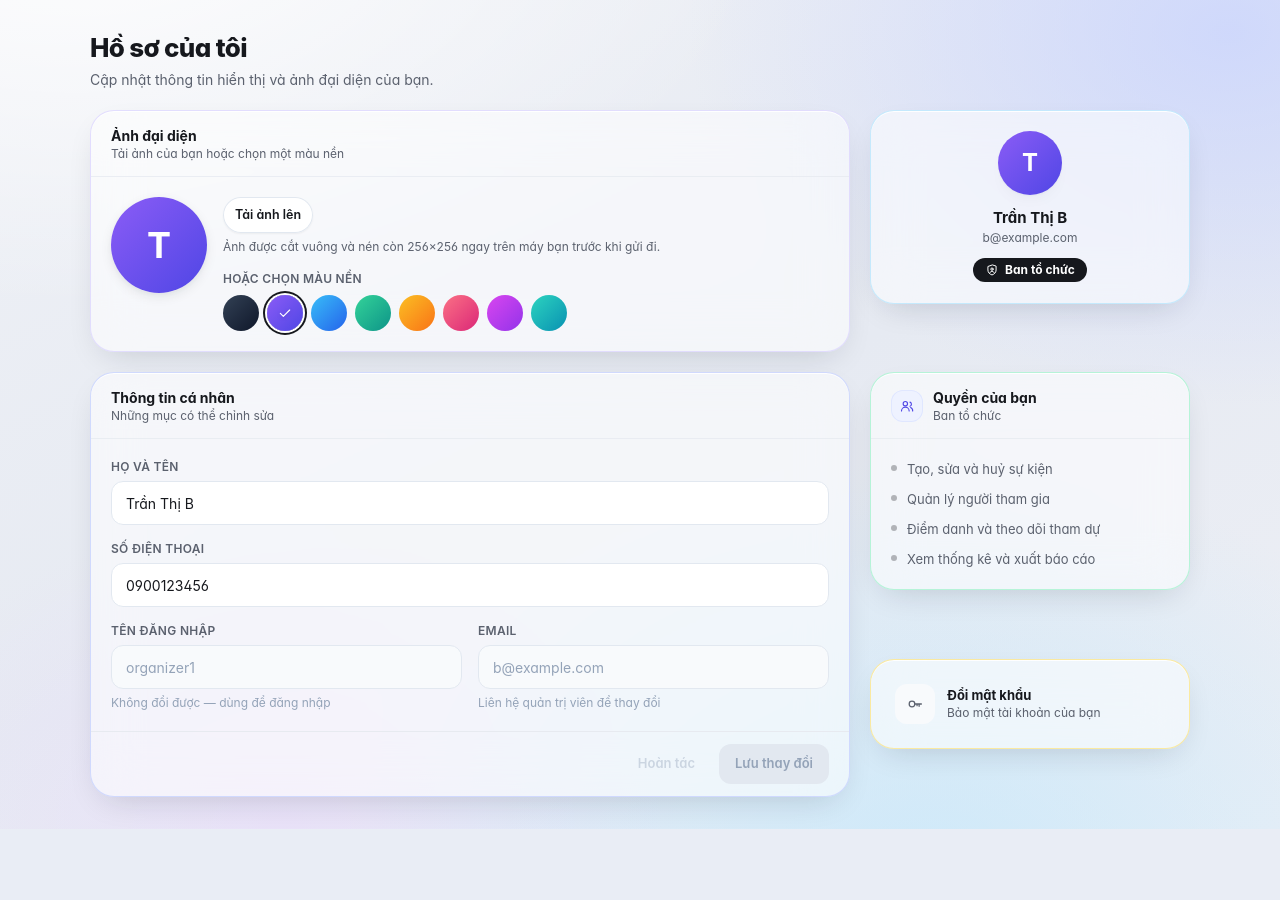
Test: ProfilePage › không gọi API khi số điện thoại sai định dạng
Replace the text in the field showing "0900123456" with "abc": [470, 585] box [111, 563, 829, 607]
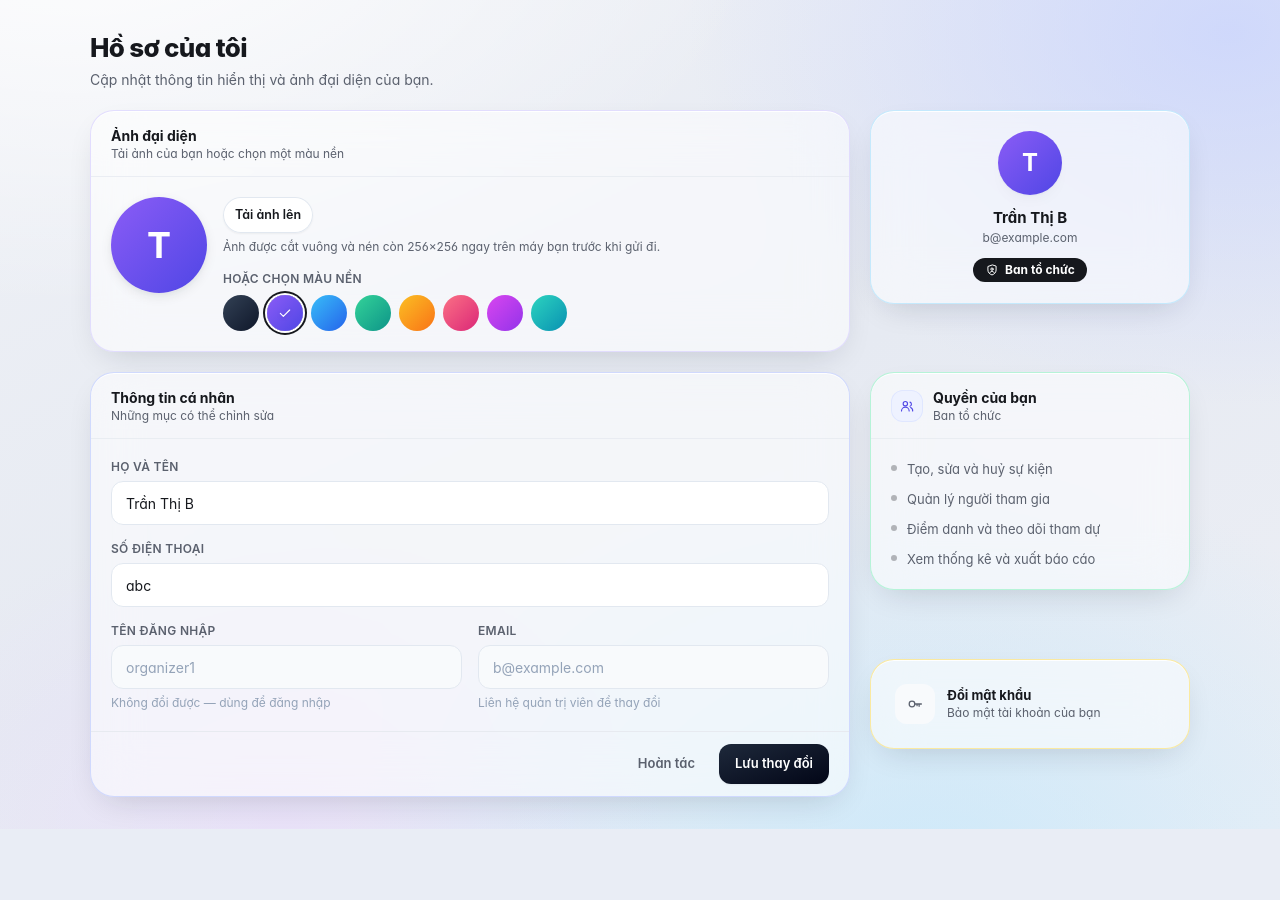
Click the button "Lưu thay đổi": [774, 764] box [719, 744, 829, 784]
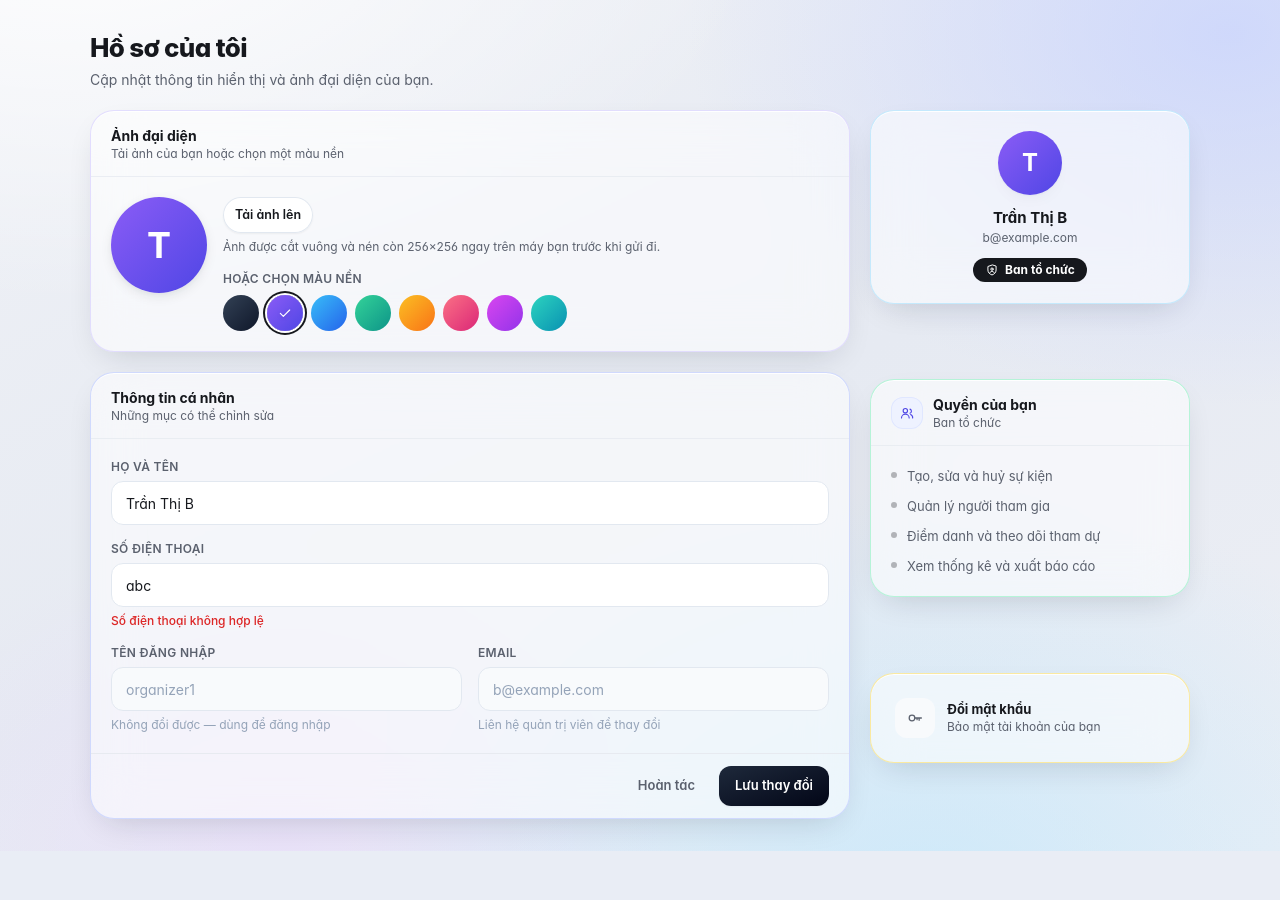
Check: the text "Số điện thoại không hợp lệ" is shown, box [111, 613, 264, 628]
